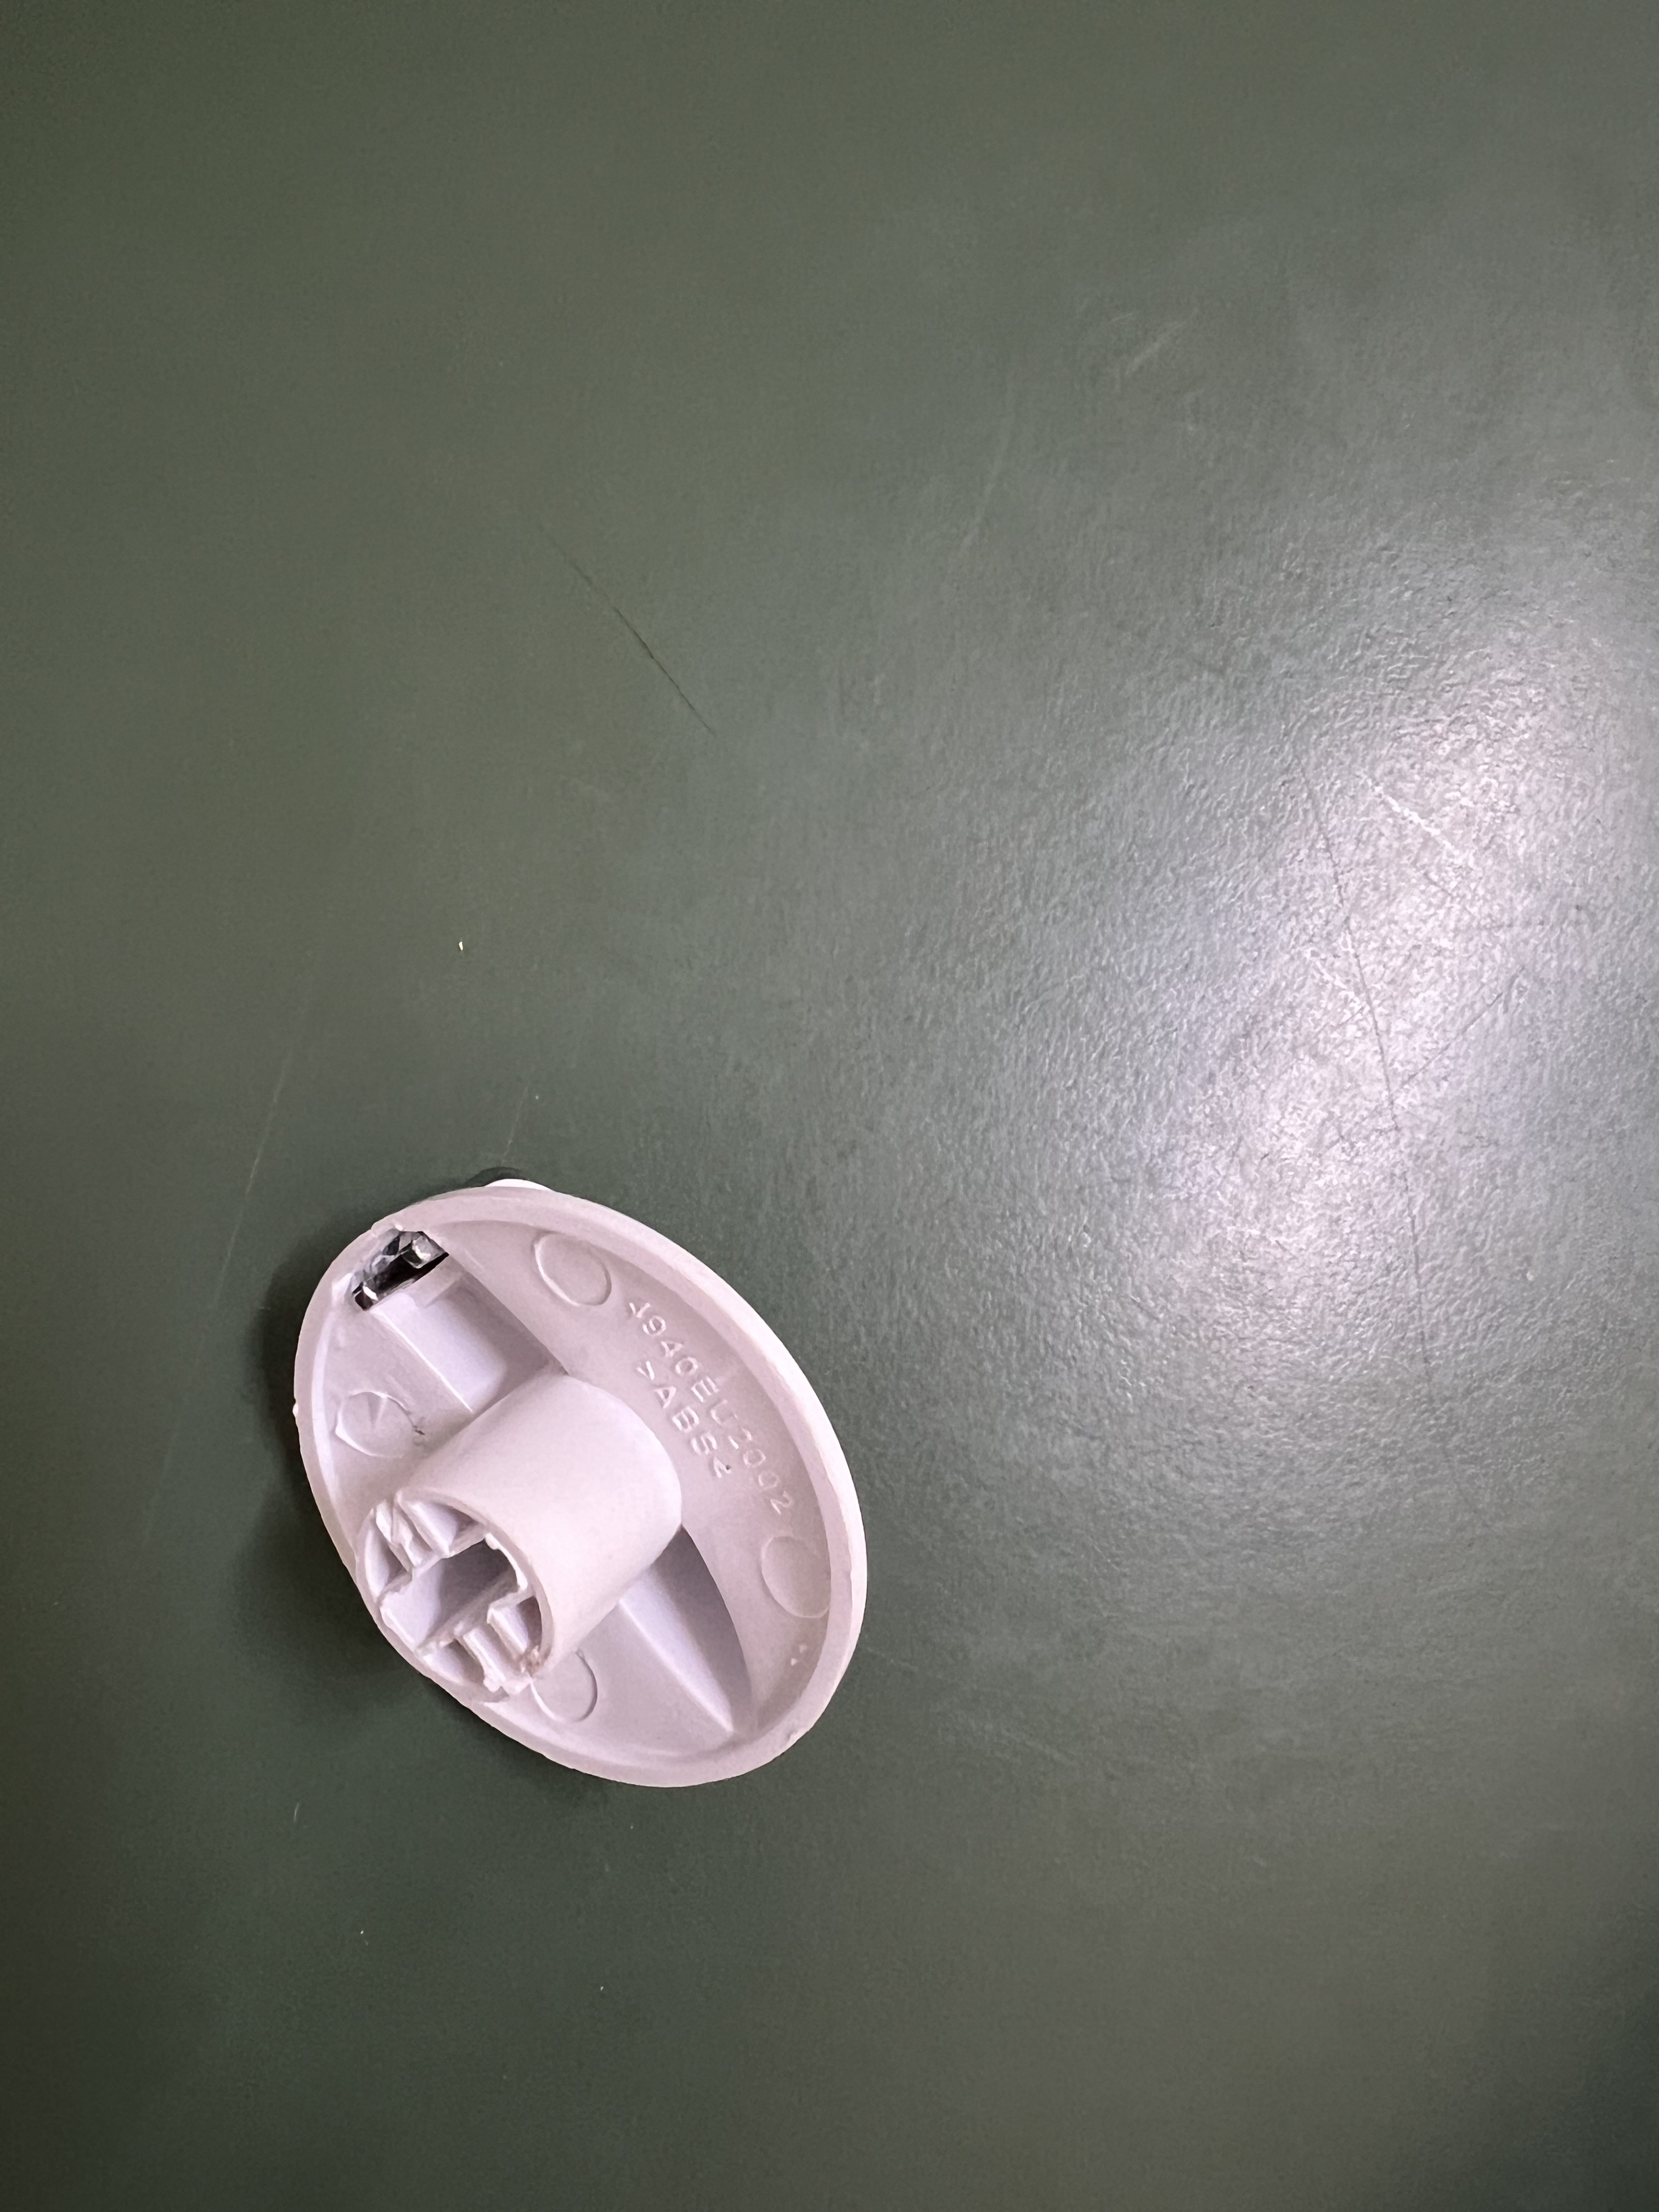regulator: (281, 1167, 871, 1797)
